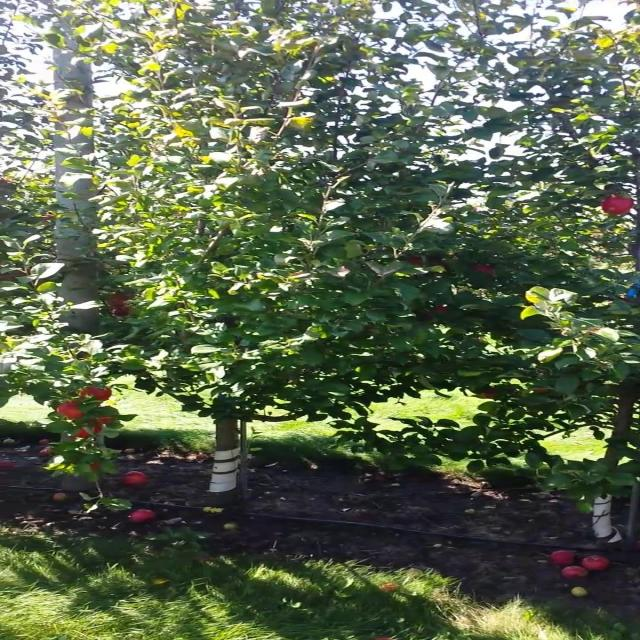apple: (604, 196, 633, 216), (56, 400, 85, 420), (77, 388, 114, 401), (77, 424, 107, 440), (106, 296, 133, 307), (476, 264, 498, 276), (412, 256, 427, 268), (483, 388, 498, 400), (113, 308, 132, 317), (532, 388, 553, 395), (99, 416, 117, 424), (440, 308, 448, 312)
